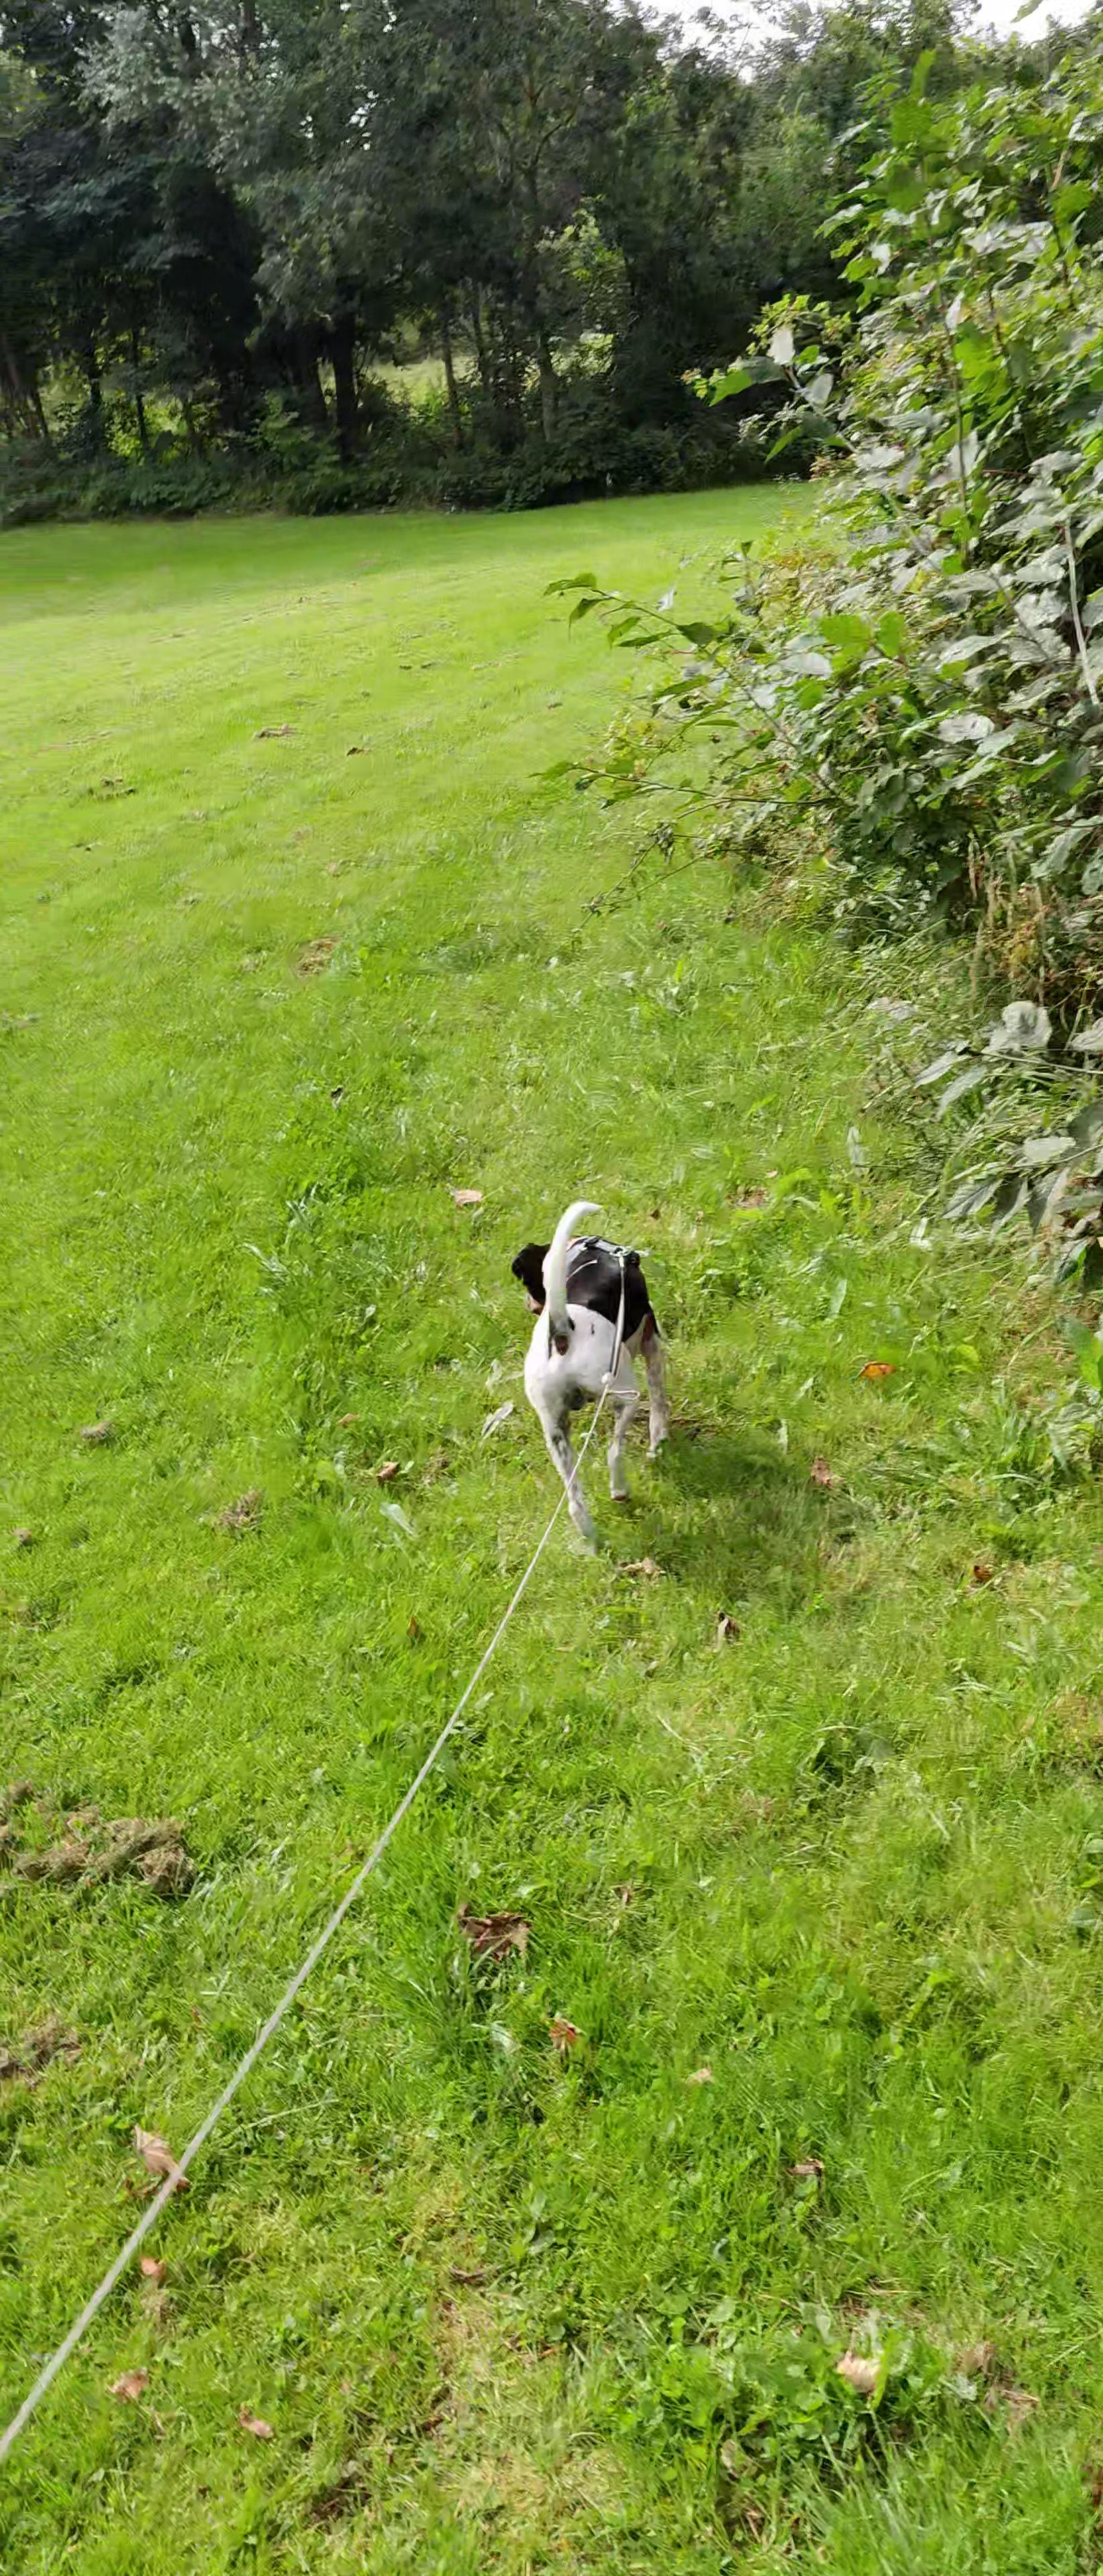Dog: (493, 1181, 710, 1564)
